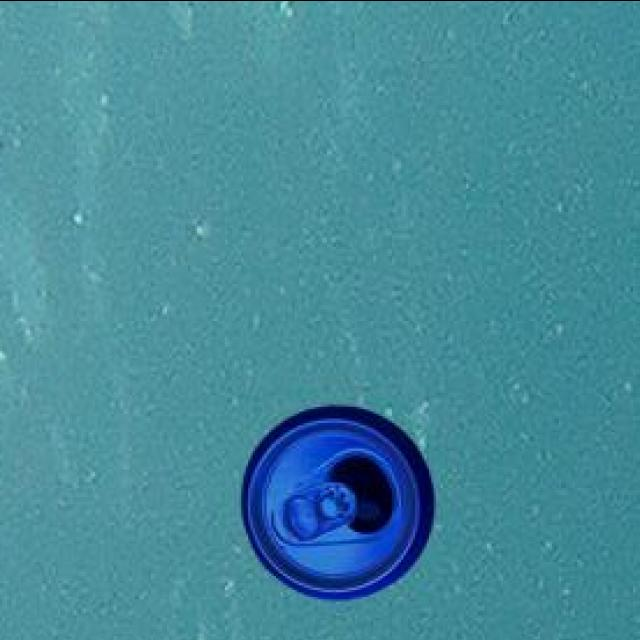logam: (238, 402, 430, 595)
